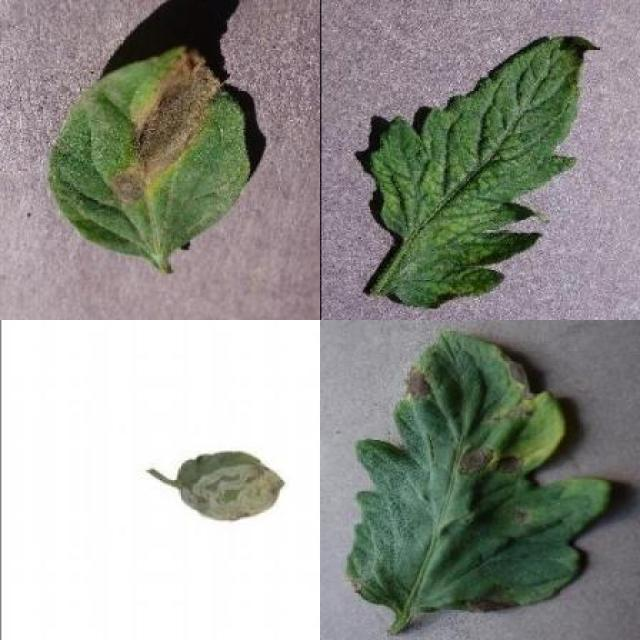Early Blight: (344, 328, 612, 615), (44, 44, 252, 266)
Leaf Miner: (174, 454, 284, 525)
Mosaic Virus: (365, 35, 601, 311)
